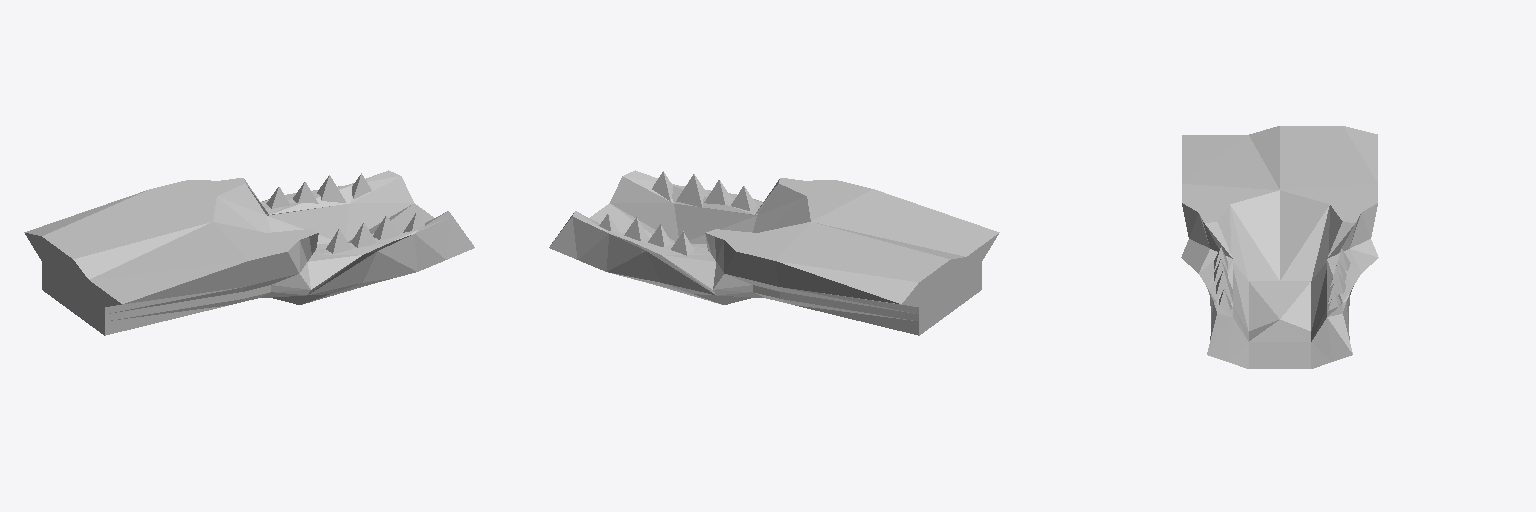
Rendered from bossLowerJaw.obj.
3 views of the same model, side by side, from view 1: azimuth 30°, elevation 25°; view 2: azimuth 150°, elevation 25°; view 3: azimuth 270°, elevation 25° (orthographic).
Visible parts, largest first — view 1: sita_立方体.002; view 2: sita_立方体.002; view 3: sita_立方体.002.
Part boxes in pixels (x1,y1,x2,y2): sita_立方体.002: (24, 170, 474, 335); sita_立方体.002: (549, 170, 999, 335); sita_立方体.002: (1181, 126, 1378, 368).
Size of the model in its own units: 6.72 by 1.57 by 3.15.